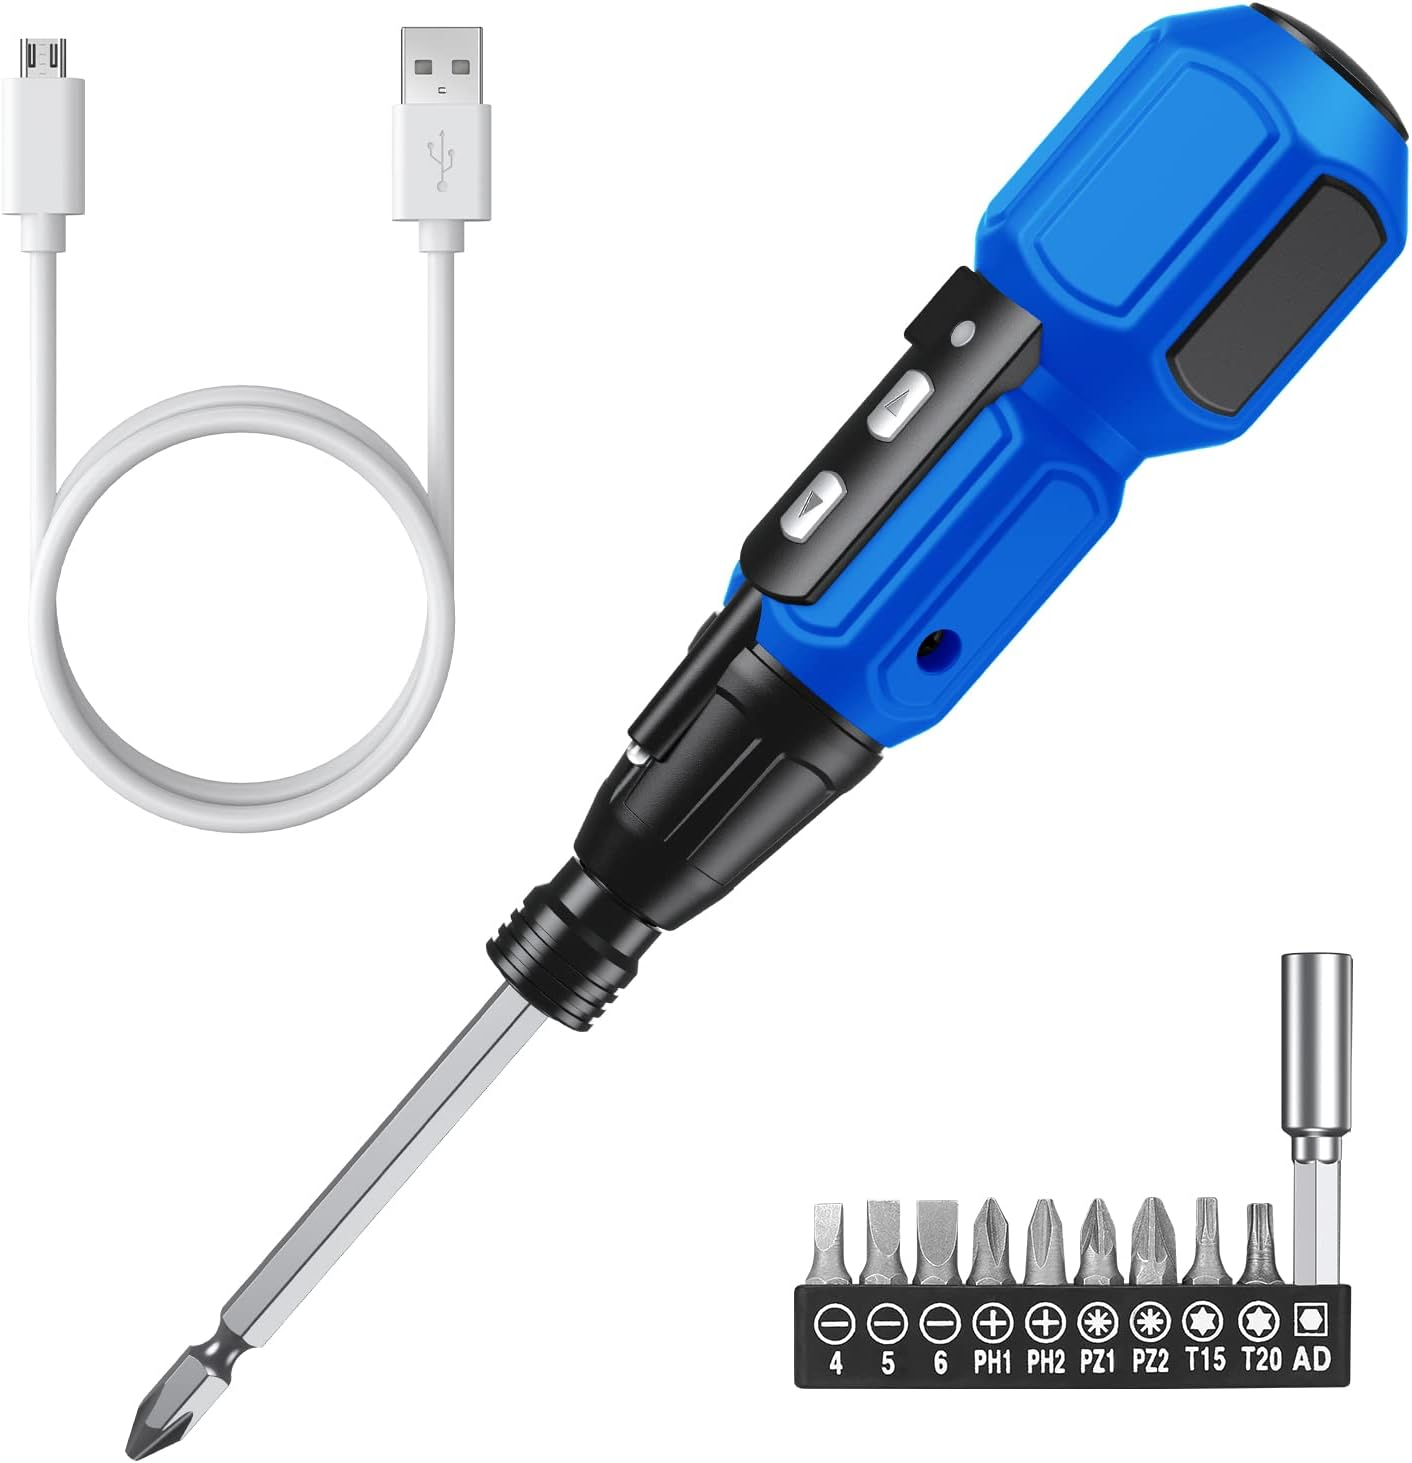screwdriver: (125, 1, 1409, 1459)
